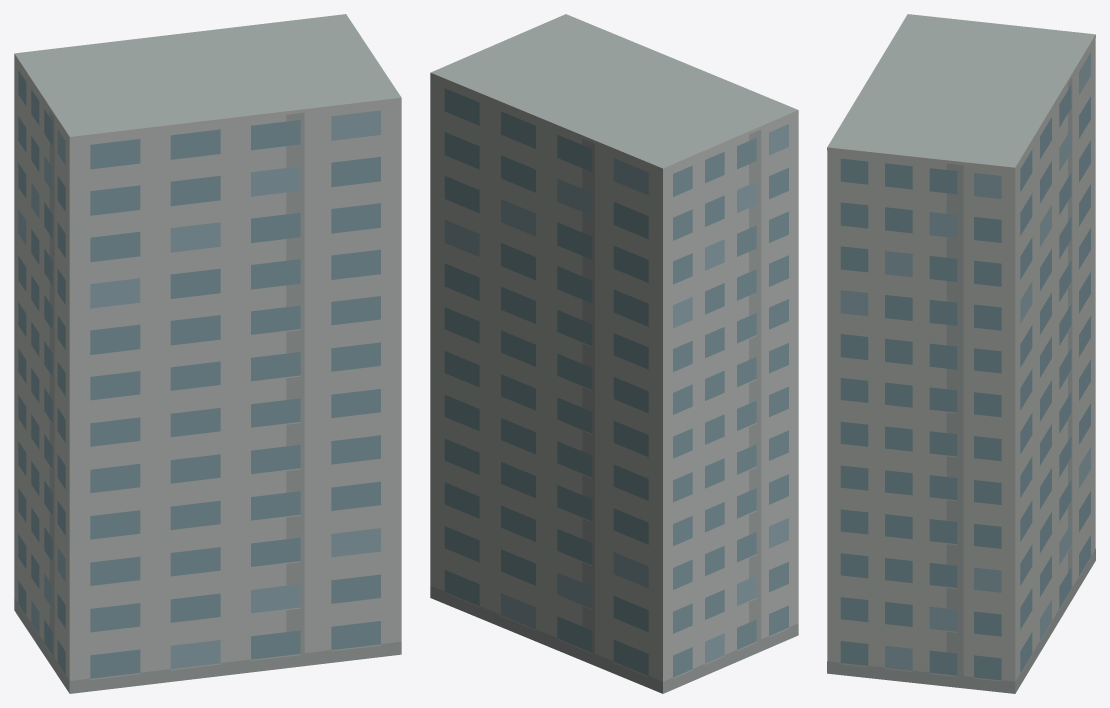
Rendered from residential-27999f51-324c-4442-85c7-1416b17ffcaa.glb.
3 renders of one model, left to right at view 1: azimuth 30°, elevation 25°; view 2: azimuth 150°, elevation 25°; view 3: azimuth 270°, elevation 25°, orthographic. The views are drawn at different scales.
Parts seen in each view (by area): view 1: residential-27999f51-324c-4442-85c7-1416b17ffcaa.tmp; view 2: residential-27999f51-324c-4442-85c7-1416b17ffcaa.tmp; view 3: residential-27999f51-324c-4442-85c7-1416b17ffcaa.tmp.
Boxes of the visible parts, bbox=[...] form: residential-27999f51-324c-4442-85c7-1416b17ffcaa.tmp: bbox=[14, 14, 401, 693]; residential-27999f51-324c-4442-85c7-1416b17ffcaa.tmp: bbox=[430, 14, 798, 693]; residential-27999f51-324c-4442-85c7-1416b17ffcaa.tmp: bbox=[827, 14, 1095, 693].
Bounding box in the file's own units: 24.43 × 39 × 18.06.
